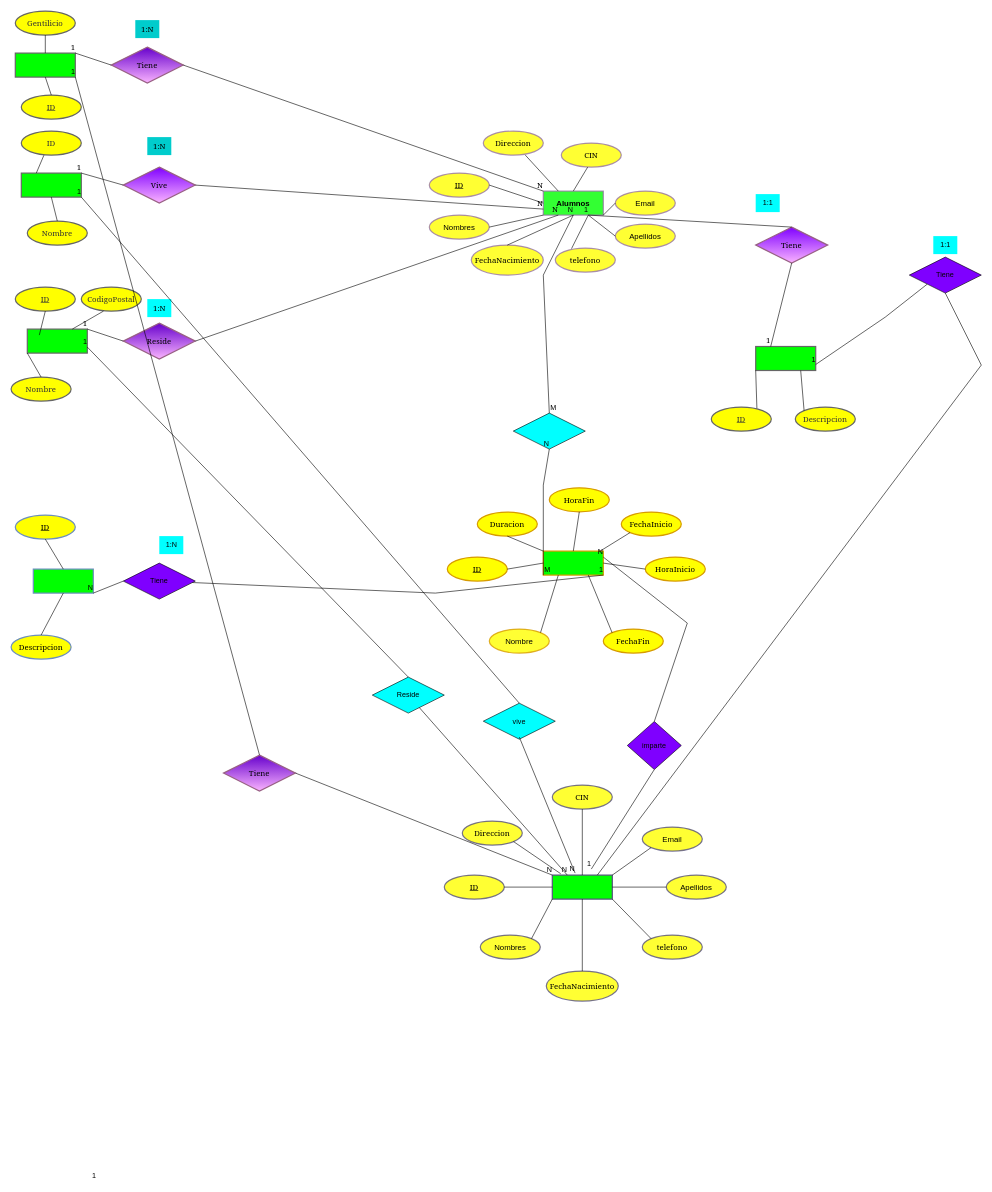
The diagram is 992 pixels wide and 1192 high, and some of its shapes have lost their labels. Here are the shapes that lost their labels. From the top down, the centre of each, then its label:
At point 45,64: "Nacionalidad".
At point 51,184: "Barrios".
At point 57,340: "Ciudades".
At point 785,358: "Sexo".
At point 549,430: "asiste".
At point 63,580: "Turno".
At point 573,562: "Curso".
At point 582,886: "Profesores".
